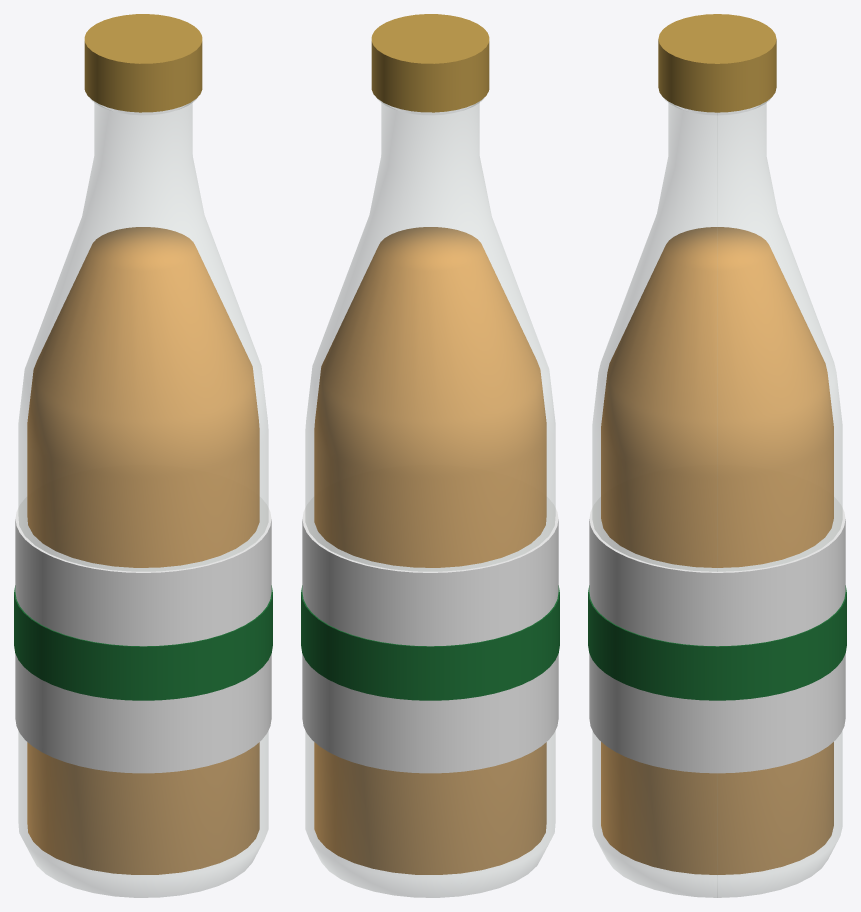
The model's file is bibite-bibite-galvanina-bio.glb.
The picture shows the model from 3 angles, left to right: view 1: azimuth 30°, elevation 25°; view 2: azimuth 150°, elevation 25°; view 3: azimuth 270°, elevation 25°; orthographic projection.
Bounding box in the file's own units: 0.0578 × 0.2 × 0.0578.
